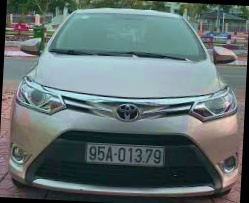Bien-so: (84, 142, 166, 168)
